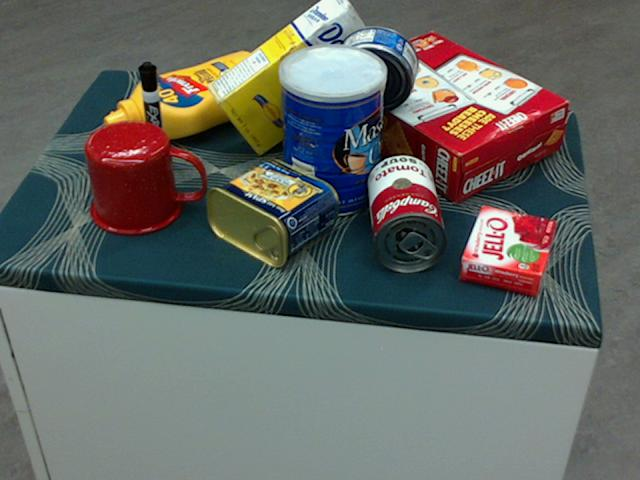cracker_box: (326, 30, 565, 203)
gelatin_box: (460, 205, 554, 293)
large_marker: (136, 61, 168, 168)
master_chef_can: (278, 45, 385, 218)
mug: (85, 119, 204, 235)
mustard_bottle: (102, 51, 275, 139)
potted_meat_can: (203, 158, 337, 267)
sugar_box: (204, 0, 386, 157)
tomato_soup_can: (368, 154, 445, 271)
tuna_fish_can: (333, 24, 418, 110)
